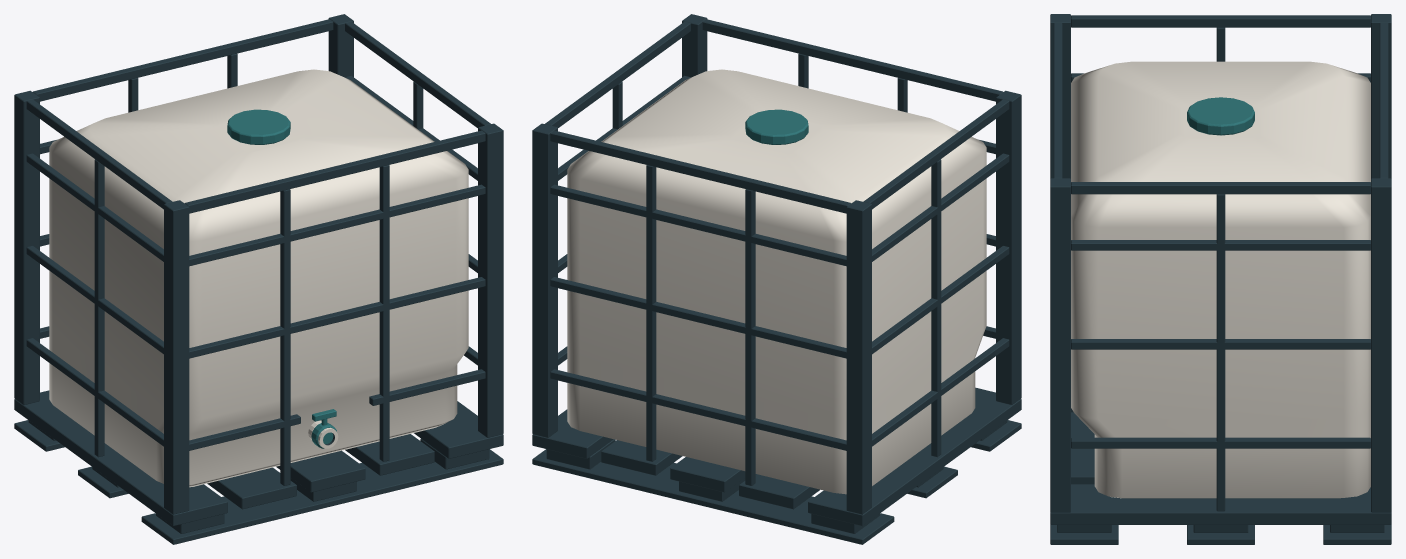
The model's file is ibc.glb.
3 views of the same model, side by side, from view 1: azimuth 30°, elevation 25°; view 2: azimuth 150°, elevation 25°; view 3: azimuth 270°, elevation 25° (orthographic). The views are drawn at different scales.
Parts seen in each view (by area): view 1: ibc__batch_01, ibc__batch_00, ibc__batch_02; view 2: ibc__batch_01, ibc__batch_00, ibc__batch_02; view 3: ibc__batch_01, ibc__batch_00, ibc__batch_02.
Part boxes in pixels (x1,y1,x2,y2): ibc__batch_01: (49,69,468,487); ibc__batch_00: (14,14,503,544); ibc__batch_02: (227,109,336,448); ibc__batch_01: (567,69,986,494); ibc__batch_00: (532,14,1021,544); ibc__batch_02: (745,109,808,144); ibc__batch_01: (1071,61,1370,498); ibc__batch_00: (1050,14,1391,544); ibc__batch_02: (1187,97,1254,135).
Size of the model in its own units: 1.2 by 1.16 by 1.
